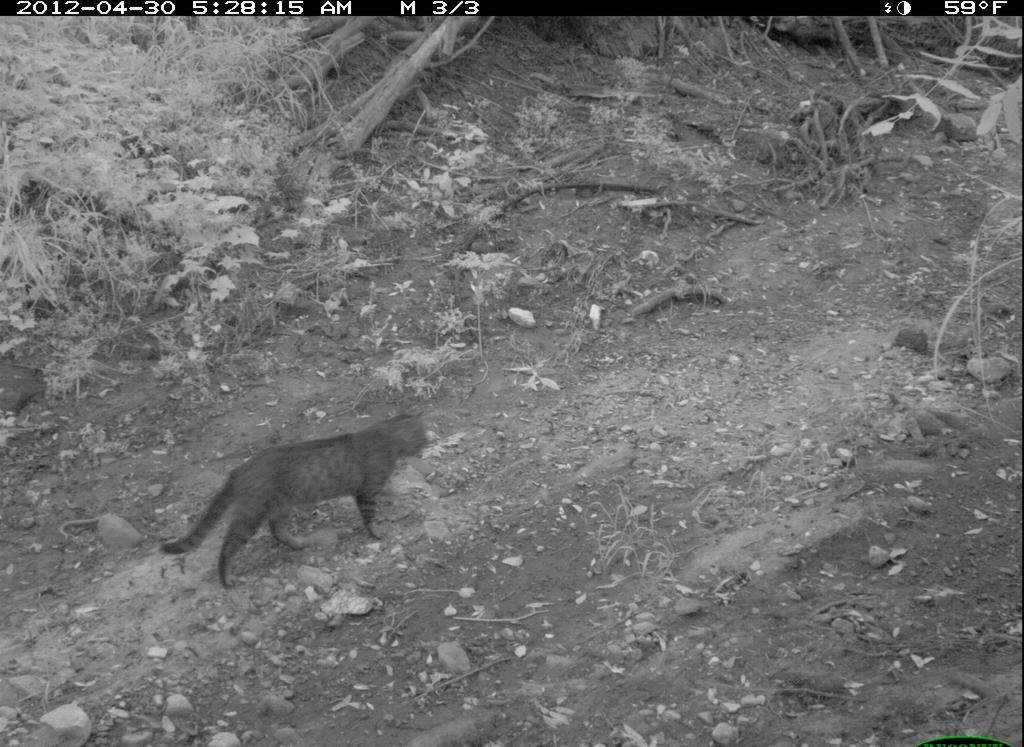cat: (143, 406, 451, 588)
